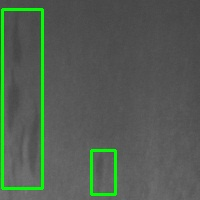inclusion: (2, 9, 42, 188), (91, 150, 115, 194)
